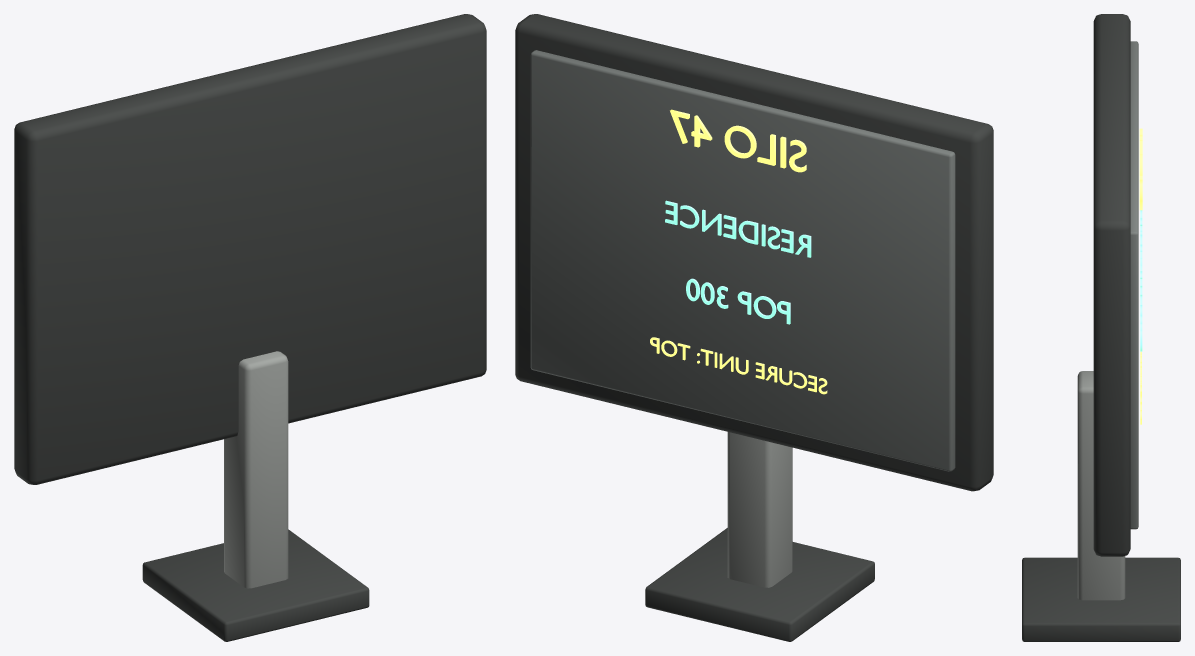
Rendered from hab_directory_v4.glb.
3 views of the same model, side by side, from view 1: azimuth 30°, elevation 25°; view 2: azimuth 150°, elevation 25°; view 3: azimuth 270°, elevation 25° (orthographic). The views are drawn at different scales.
Parts seen in each view (by area): view 1: HabDirectory; view 2: HabDirectory; view 3: HabDirectory.
Part boxes in pixels (x1,y1,x2,y2): HabDirectory: (14,14,486,641); HabDirectory: (515,14,993,641); HabDirectory: (1022,14,1180,641).
Bounding box in the file's own units: 1.9 × 2.05 × 0.6.
